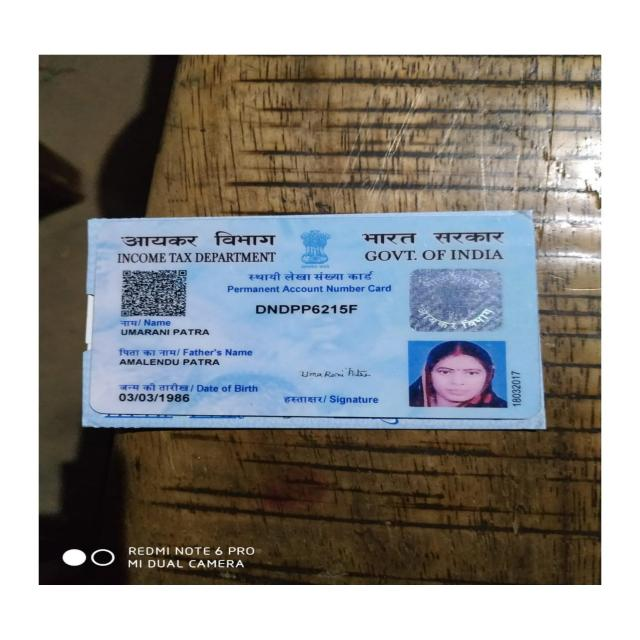pan_card: (101, 216, 524, 416)
